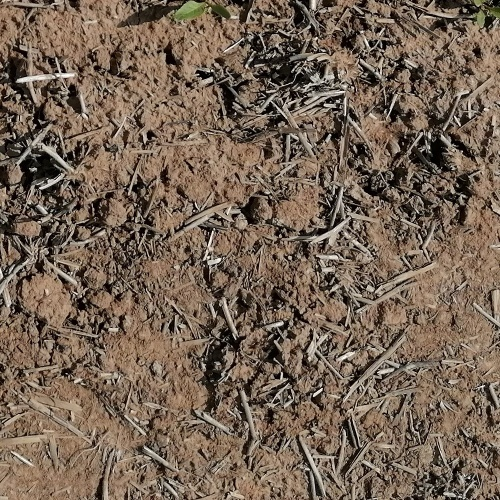beet: (174, 0, 234, 16), (476, 0, 500, 31)
